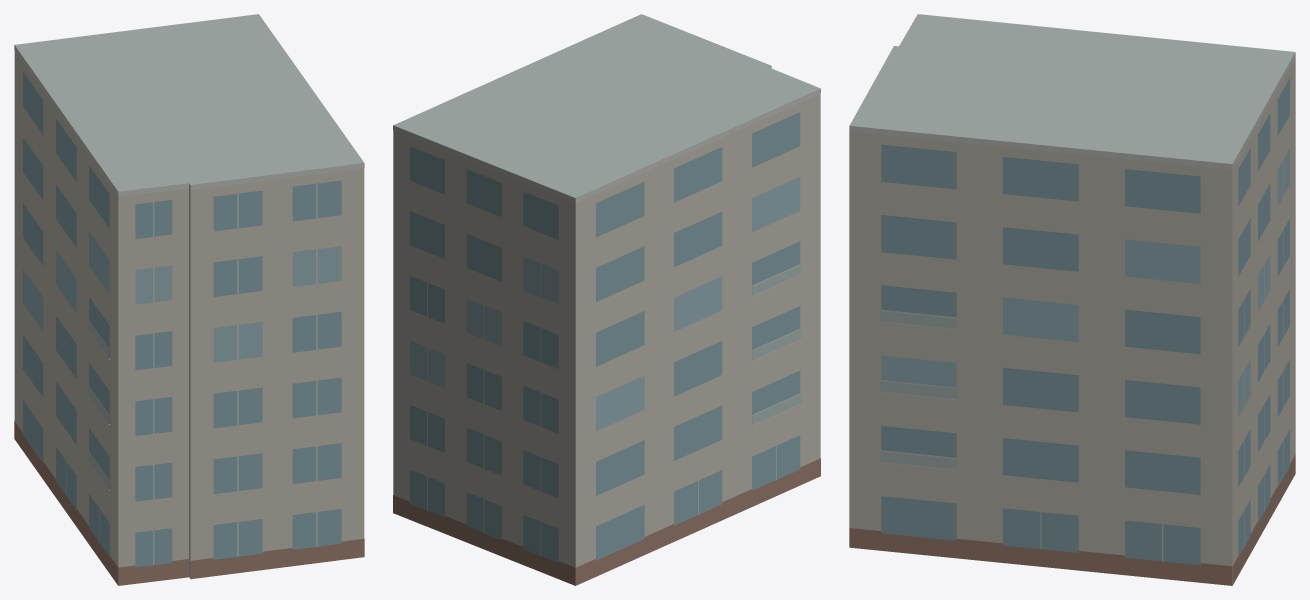
Rendered from survey-upis-32957397.glb.
The picture shows the model from 3 angles, left to right: view 1: azimuth 30°, elevation 25°; view 2: azimuth 150°, elevation 25°; view 3: azimuth 270°, elevation 25°; orthographic projection. The views are drawn at different scales.
Parts seen in each view (by area): view 1: survey-upis-32957397.tmp; view 2: survey-upis-32957397.tmp; view 3: survey-upis-32957397.tmp.
Part boxes in pixels (bbox=[...]): survey-upis-32957397.tmp: bbox=[14, 14, 364, 585]; survey-upis-32957397.tmp: bbox=[393, 14, 820, 585]; survey-upis-32957397.tmp: bbox=[849, 14, 1295, 585].
Bounding box in the file's own units: 13.98 × 18.3 × 17.56.
